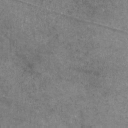finishing roll printing: (12, 0, 128, 35)
